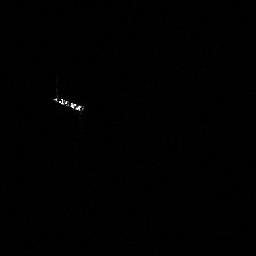ship: (49, 92, 88, 114)
